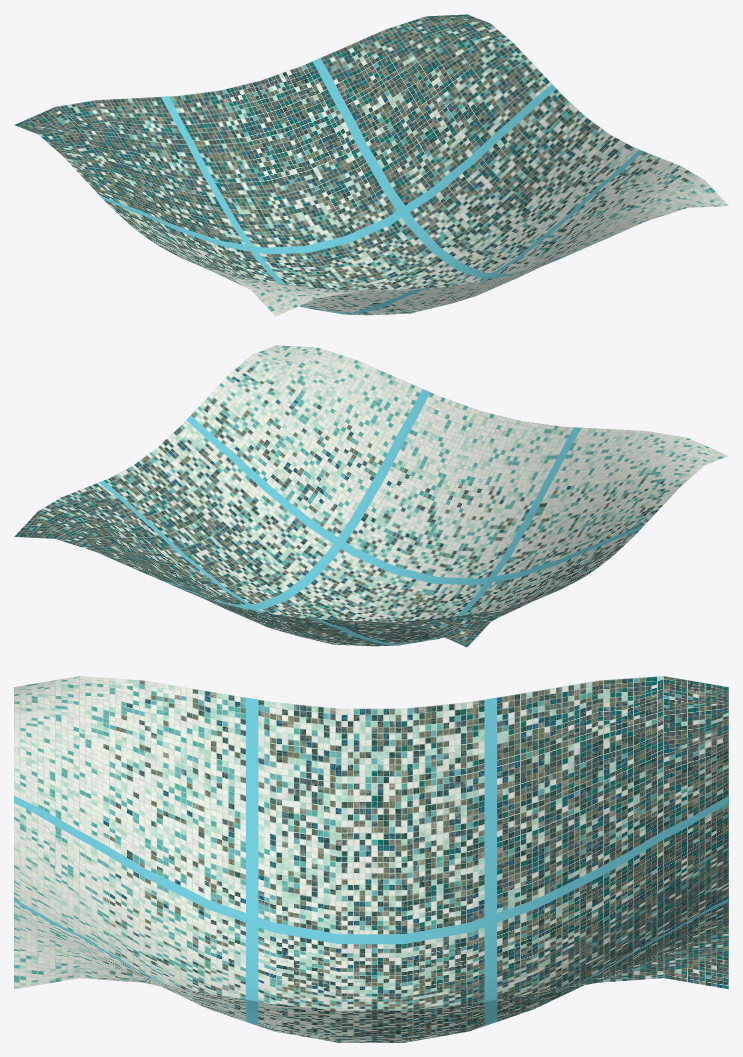
File: RoundedPlatform_2.fbx
The picture shows the model from 3 angles, top to bottom: view 1: azimuth 30°, elevation 25°; view 2: azimuth 150°, elevation 25°; view 3: azimuth 270°, elevation 25°; orthographic projection. The views are drawn at different scales.
Parts seen in each view (by area): view 1: RoundedPlatform_2; view 2: RoundedPlatform_2; view 3: RoundedPlatform_2.
Boxes of the visible parts, <box> form: RoundedPlatform_2: <box>14,14,728,316</box>; RoundedPlatform_2: <box>14,345,728,647</box>; RoundedPlatform_2: <box>14,676,728,1042</box>.
Size of the model in its own units: 700 by 197 by 700.
